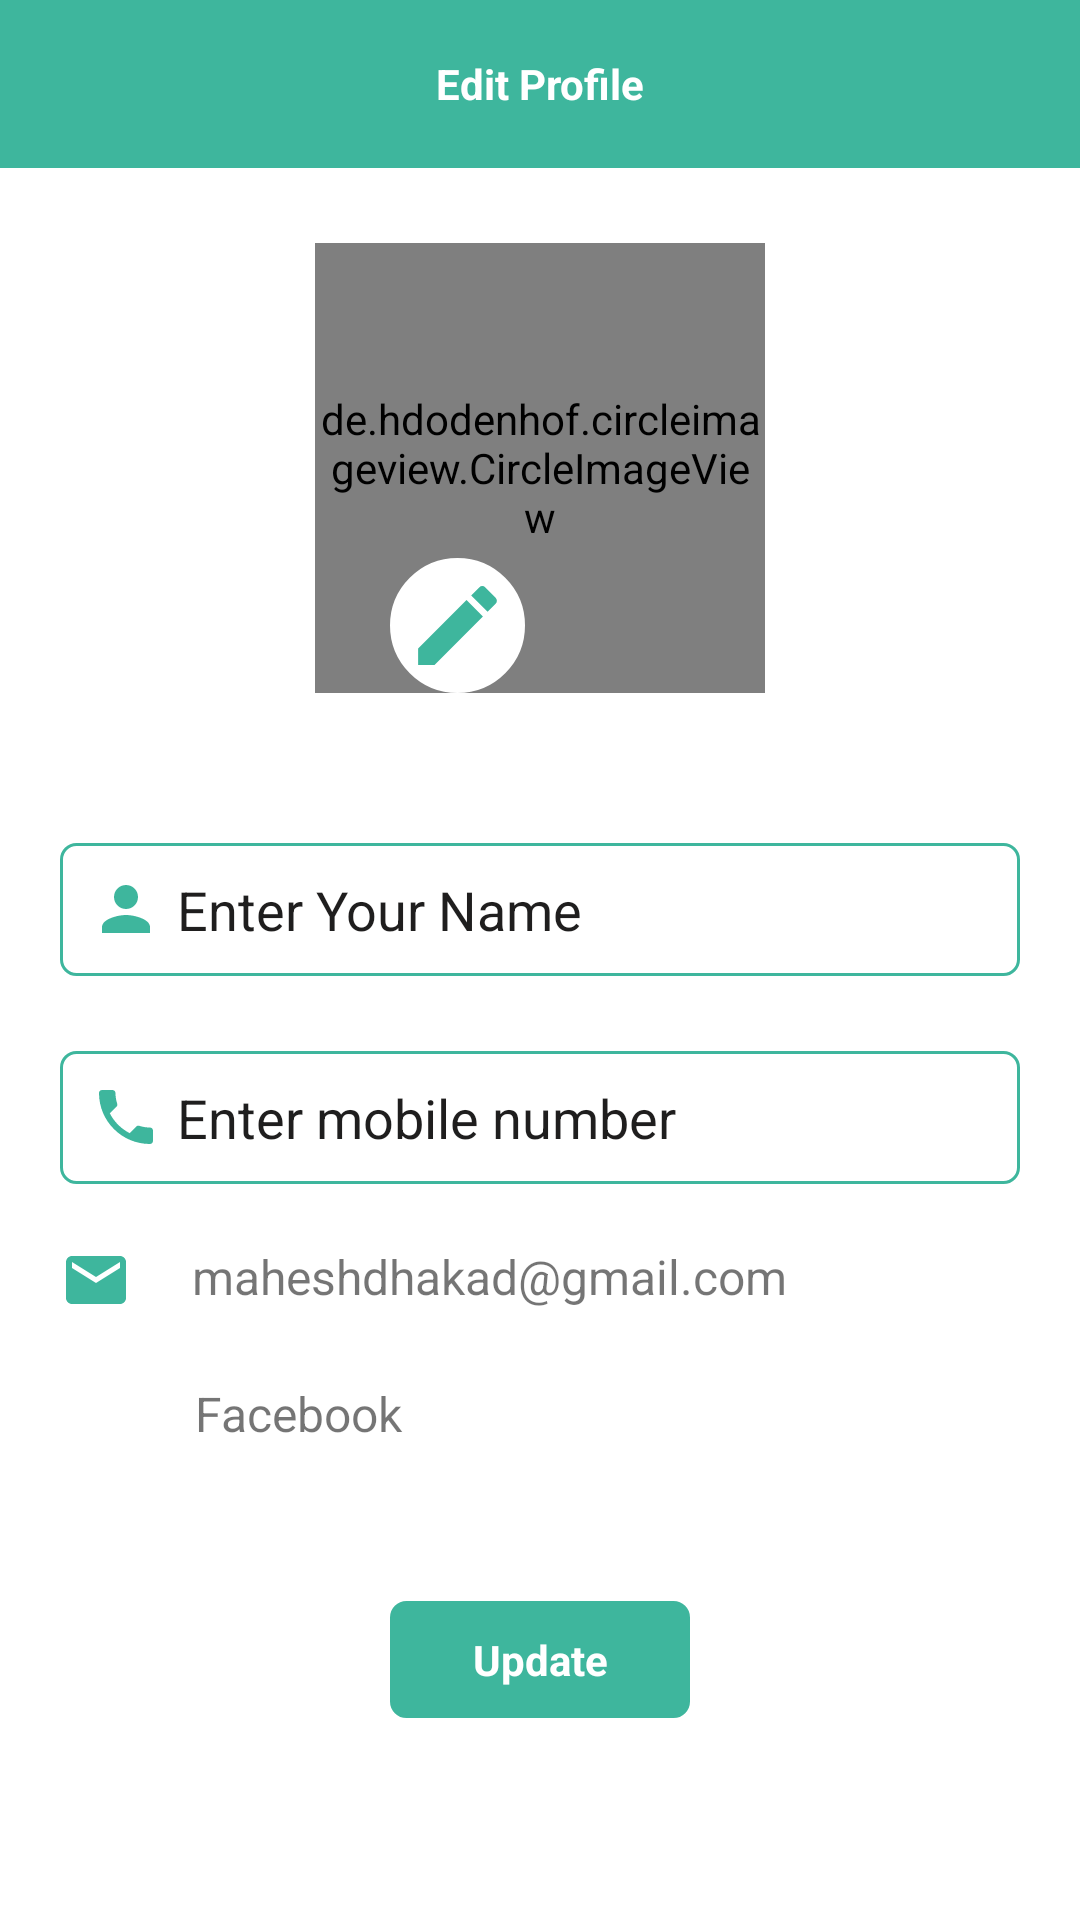

Named icons in this screenshot (1080w x 1920h) and their bounding boxes, (x1, y1, x2, y2):
edit: (390, 558, 525, 693)
